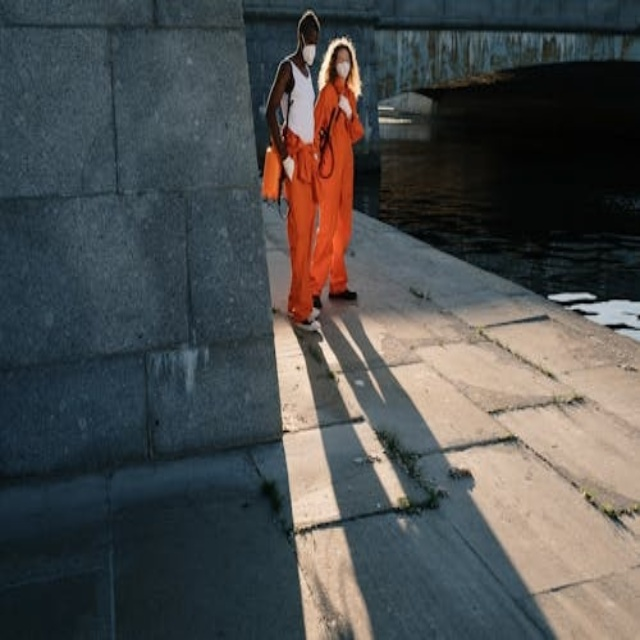Guantes: (338, 94, 352, 118), (283, 156, 295, 181)
Mascara: (301, 42, 317, 66), (336, 60, 350, 79)
